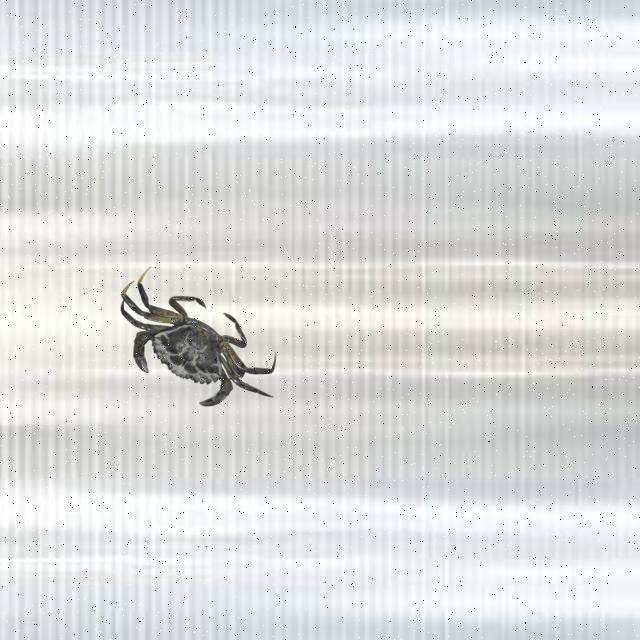European_Green_Crab: (92, 259, 299, 438)
